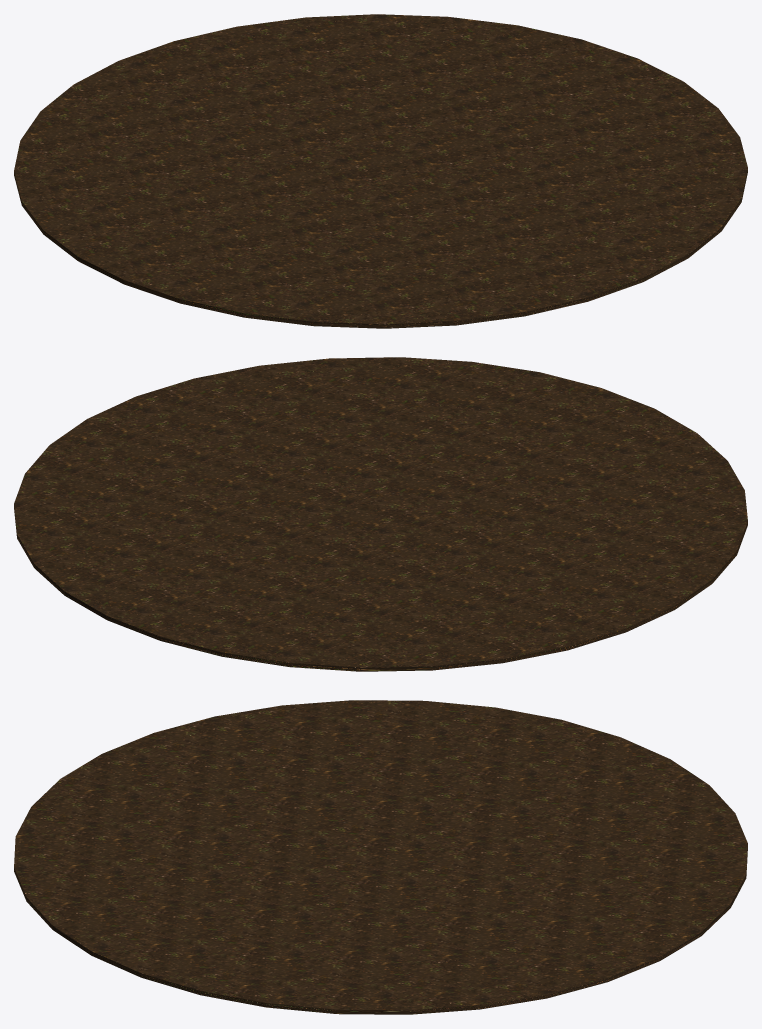
File: floor_1.glb
3 views of the same model, one above another, from view 1: azimuth 30°, elevation 25°; view 2: azimuth 150°, elevation 25°; view 3: azimuth 270°, elevation 25° (orthographic).
Visible parts, largest first — view 1: Cylinder; view 2: Cylinder; view 3: Cylinder.
Boxes of the visible parts, <box> form: Cylinder: <box>14,14,747,328</box>; Cylinder: <box>14,357,747,671</box>; Cylinder: <box>14,700,747,1014</box>.
Bounding box in the file's own units: 14.96 × 0.1 × 14.96.
Materials: 1 (1 with a texture image).
